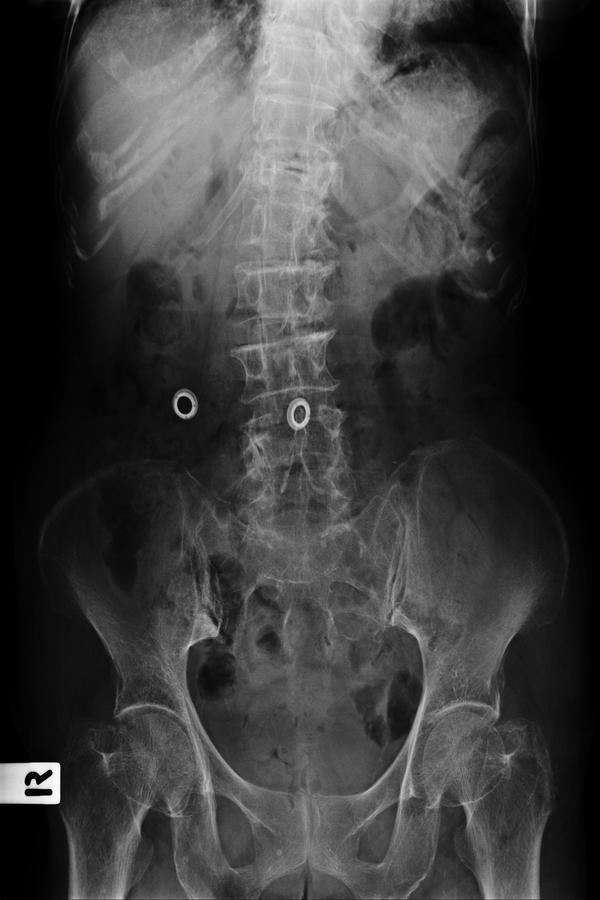lumbar scoliosis: (234, 6, 357, 566)
